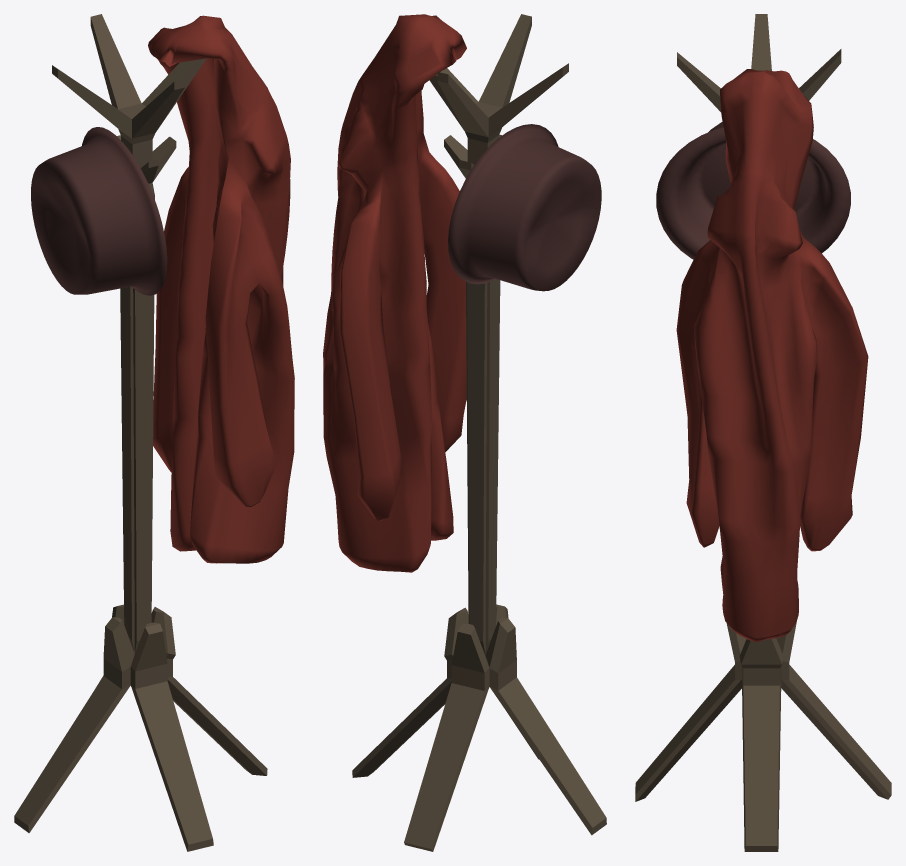
File: Sem_Kapstok_Color.fbx
The picture shows the model from 3 angles, left to right: view 1: azimuth 30°, elevation 25°; view 2: azimuth 150°, elevation 25°; view 3: azimuth 270°, elevation 25°; orthographic projection. The views are drawn at different scales.
Visible parts, largest first — view 1: pCylinder2; view 2: pCylinder2; view 3: pCylinder2.
Part boxes in pixels (box(x1,y1,x2,y2)): pCylinder2: box(14, 14, 294, 851); pCylinder2: box(323, 14, 606, 851); pCylinder2: box(635, 14, 891, 851).
Bounding box in the file's own units: 3.64 × 10.09 × 3.1.
